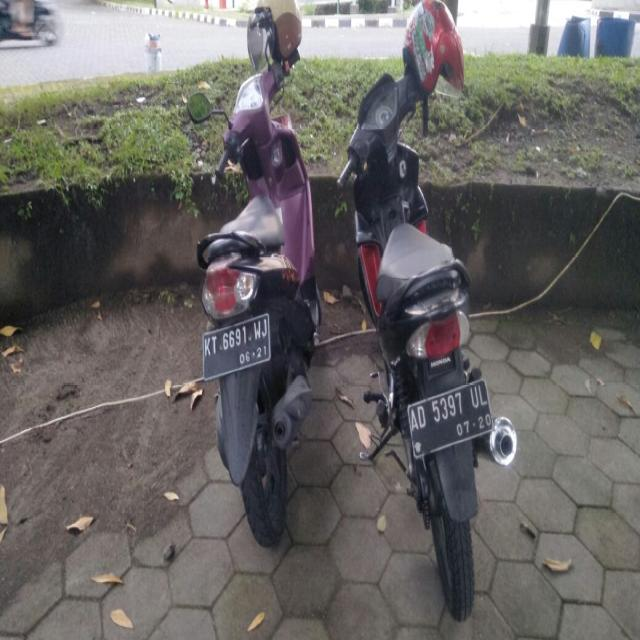plate: (407, 378, 492, 449), (202, 313, 269, 371)
